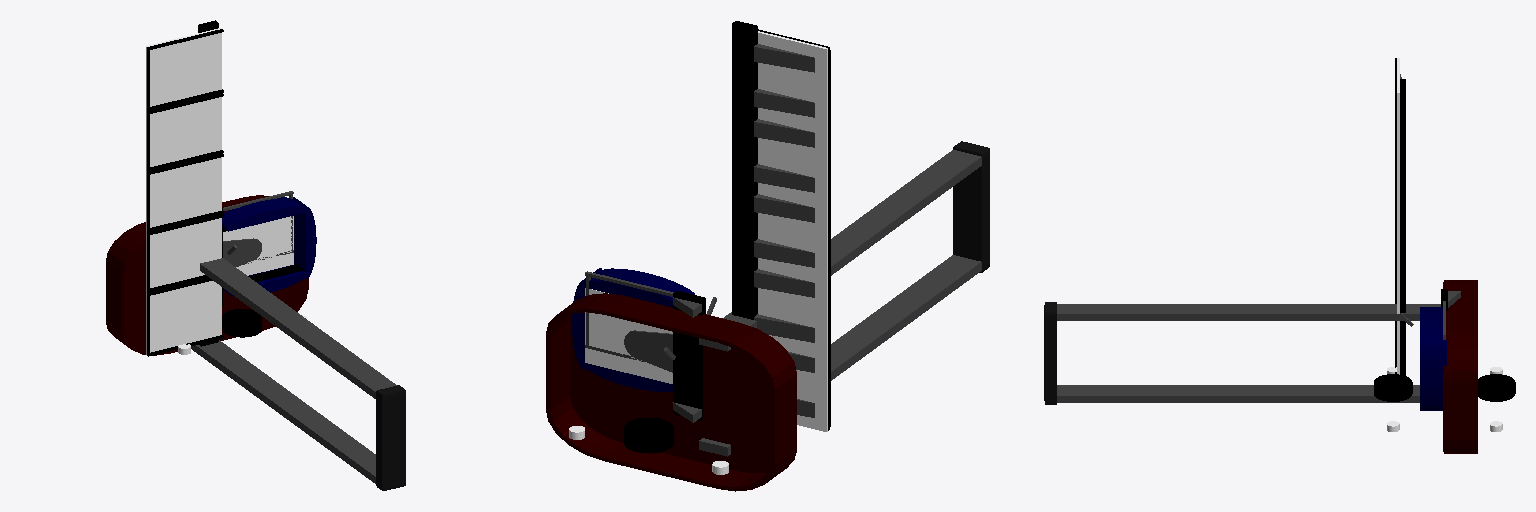
URDF robot description (tote):
<?xml version="1.0"?>
<robot name="tote">

  <link name="base_footprint"/>

  <joint name="base_footprint_joint" type="fixed">
    <parent link="base_footprint"/>
    <child link="base_link"/>
    <origin xyz="0 0 0" rpy="0 0 0"/>
  </joint>

  <link name="base_link">
    <visual>   <geometry> <box size="0.01 0.01 0.01"/> </geometry> </visual>
    <collision><geometry> <box size="0.01 0.01 0.01"/> </geometry> </collision>
    <inertial>
      <mass value="250.0"/> 
      <inertia ixx="1.0" ixy="0.0" ixz="0.0" iyy="1.0" iyz="0.0" izz="1.0"/>
    </inertial>
  </link>

  <joint name="left_wheel_joint" type="continuous">
    <parent link="base_link"/>
    <child link="left_wheel_link"/>
    <origin xyz="0 -0.4 -0.101" rpy="0 0 0"/> <axis xyz="0 1 0"/> </joint>
  <link name="left_wheel_link">
    <visual>
      <geometry> <mesh filename="wheel.dae"/> </geometry>
    </visual>
    <collision>
      <geometry> <mesh filename="wheel.dae"/> </geometry>
    </collision>
  </link>

  <joint name="right_wheel_joint" type="continuous">
    <parent link="base_link"/>
    <child link="right_wheel_link"/>
    <origin xyz="0 0.4 -0.101" rpy="0 0 0"/> <axis xyz="0 1 0"/>
  </joint>
  <link name="right_wheel_link">
    <visual>
      <geometry> <mesh filename="wheel.dae"/> </geometry>
    </visual>
    <collision>
      <geometry> <mesh filename="wheel.dae"/> </geometry>
    </collision>
  </link>

  <joint name="cast_wheel_joint1" type="fixed">
    <parent link="base_link"/>
    <child link="cast_wheel_link1"/>
    <origin xyz="0.5 0.4 -0.2" rpy="0 0 0"/>
  </joint>
  <link name="cast_wheel_link1">
    <visual>
      <geometry> <mesh filename="cast_wheel.dae"/> </geometry>
    </visual>
    <collision>
      <geometry> <mesh filename="cast_wheel.dae"/> </geometry>
    </collision>
  </link>

  <joint name="cast_wheel_joint2" type="fixed">
    <parent link="base_link"/>
    <child link="cast_wheel_link2"/>
    <origin xyz="-0.5 0.4 -0.2" rpy="0 0 0"/>
  </joint>
  <link name="cast_wheel_link2">
    <visual>
      <geometry> <mesh filename="cast_wheel.dae"/> </geometry>
    </visual>
    <collision>
      <geometry> <mesh filename="cast_wheel.dae"/> </geometry>
    </collision>
  </link>

  <joint name="cast_wheel_joint3" type="fixed">
    <parent link="base_link"/>
    <child link="cast_wheel_link3"/>
    <origin xyz="0.5 -0.4 -0.2" rpy="0 0 0"/>
  </joint>
  <link name="cast_wheel_link3">
    <visual>
      <geometry> <mesh filename="cast_wheel.dae"/> </geometry>
    </visual>
    <collision>
      <geometry> <mesh filename="cast_wheel.dae"/> </geometry>
    </collision>
  </link>

  <joint name="cast_wheel_joint4" type="fixed">
    <parent link="base_link"/>
    <child link="cast_wheel_link4"/>
    <origin xyz="-0.5 -0.4 -0.2" rpy="0 0 0"/>
  </joint>
  <link name="cast_wheel_link4">
    <visual>
      <geometry> <mesh filename="cast_wheel.dae"/> </geometry>
    </visual>
    <collision>
      <geometry> <mesh filename="cast_wheel.dae"/> </geometry>
    </collision>
  </link>

  <joint name="mast_joint" type="fixed">
    <parent link="base_link"/>
    <child link="mast_link"/>
    <origin xyz="0 0 0.08" rpy="0 0 0"/>
  </joint>
  <link name="mast_link">

    <visual> <geometry> <mesh filename="mast/mast_base_up.dae"/> </geometry> </visual>
    <visual> <geometry> <mesh filename="mast/mast_base_front.dae"/> </geometry> </visual>
    <visual> <geometry> <mesh filename="mast/mast_base_back.dae"/> </geometry> </visual>
    <visual> <geometry> <mesh filename="mast/mast_base_right.dae"/> </geometry> </visual>
    <visual> <geometry> <mesh filename="mast/mast_base_left.dae"/> </geometry> </visual>

    <visual> <geometry> <mesh filename="mast/mast_beam_up.dae"/> </geometry> </visual>
    <visual> <geometry> <mesh filename="mast/mast_beam_left.dae"/> </geometry> </visual>
    <visual> <geometry> <mesh filename="mast/mast_beam_right.dae"/> </geometry> </visual>    

    <visual> <origin xyz="0 0 0.0" rpy="0 0 0"/> <geometry> <mesh filename="mast/mast_tray_base.dae"/> </geometry> </visual>    
    <visual> <origin xyz="0 0 0.0" rpy="0 0 0"/> <geometry> <mesh filename="mast/mast_tray_back.dae"/> </geometry> </visual>    
    <visual> <origin xyz="0 0 0.0" rpy="0 0 0"/> <geometry> <mesh filename="mast/mast_tray_left.dae"/> </geometry> </visual>    
    <visual> <origin xyz="0 0 0.0" rpy="0 0 0"/> <geometry> <mesh filename="mast/mast_tray_right.dae"/> </geometry> </visual>    
    <visual> <origin xyz="0 0 0.0" rpy="0 0 0"/> <geometry> <mesh filename="mast/mast_tray_support_base.dae"/> </geometry> </visual>    
    <visual> <origin xyz="0 0 0.0" rpy="0 0 0"/> <geometry> <mesh filename="mast/mast_tray_support_left.dae"/> </geometry> </visual>    
    <visual> <origin xyz="0 0 0.0" rpy="0 0 0"/> <geometry> <mesh filename="mast/mast_tray_support_right.dae"/> </geometry> </visual>        

    <visual> <origin xyz="0 0 0.5" rpy="0 0 0"/> <geometry> <mesh filename="mast/mast_tray_base.dae"/> </geometry> </visual>    
    <visual> <origin xyz="0 0 0.5" rpy="0 0 0"/> <geometry> <mesh filename="mast/mast_tray_back.dae"/> </geometry> </visual>    
    <visual> <origin xyz="0 0 0.5" rpy="0 0 0"/> <geometry> <mesh filename="mast/mast_tray_left.dae"/> </geometry> </visual>    
    <visual> <origin xyz="0 0 0.5" rpy="0 0 0"/> <geometry> <mesh filename="mast/mast_tray_right.dae"/> </geometry> </visual>    
    <visual> <origin xyz="0 0 0.5" rpy="0 0 0"/> <geometry> <mesh filename="mast/mast_tray_support_base.dae"/> </geometry> </visual>    
    <visual> <origin xyz="0 0 0.5" rpy="0 0 0"/> <geometry> <mesh filename="mast/mast_tray_support_left.dae"/> </geometry> </visual>    
    <visual> <origin xyz="0 0 0.5" rpy="0 0 0"/> <geometry> <mesh filename="mast/mast_tray_support_right.dae"/> </geometry> </visual>        

    <visual> <origin xyz="0 0 1.0" rpy="0 0 0"/> <geometry> <mesh filename="mast/mast_tray_base.dae"/> </geometry> </visual>    
    <visual> <origin xyz="0 0 1.0" rpy="0 0 0"/> <geometry> <mesh filename="mast/mast_tray_back.dae"/> </geometry> </visual>    
    <visual> <origin xyz="0 0 1.0" rpy="0 0 0"/> <geometry> <mesh filename="mast/mast_tray_left.dae"/> </geometry> </visual>    
    <visual> <origin xyz="0 0 1.0" rpy="0 0 0"/> <geometry> <mesh filename="mast/mast_tray_right.dae"/> </geometry> </visual>    
    <visual> <origin xyz="0 0 1.0" rpy="0 0 0"/> <geometry> <mesh filename="mast/mast_tray_support_base.dae"/> </geometry> </visual>    
    <visual> <origin xyz="0 0 1.0" rpy="0 0 0"/> <geometry> <mesh filename="mast/mast_tray_support_left.dae"/> </geometry> </visual>    
    <visual> <origin xyz="0 0 1.0" rpy="0 0 0"/> <geometry> <mesh filename="mast/mast_tray_support_right.dae"/> </geometry> </visual>        

    <visual> <origin xyz="0 0 1.5" rpy="0 0 0"/> <geometry> <mesh filename="mast/mast_tray_base.dae"/> </geometry> </visual>    
    <visual> <origin xyz="0 0 1.5" rpy="0 0 0"/> <geometry> <mesh filename="mast/mast_tray_back.dae"/> </geometry> </visual>    
    <visual> <origin xyz="0 0 1.5" rpy="0 0 0"/> <geometry> <mesh filename="mast/mast_tray_left.dae"/> </geometry> </visual>    
    <visual> <origin xyz="0 0 1.5" rpy="0 0 0"/> <geometry> <mesh filename="mast/mast_tray_right.dae"/> </geometry> </visual>    
    <visual> <origin xyz="0 0 1.5" rpy="0 0 0"/> <geometry> <mesh filename="mast/mast_tray_support_base.dae"/> </geometry> </visual>    
    <visual> <origin xyz="0 0 1.5" rpy="0 0 0"/> <geometry> <mesh filename="mast/mast_tray_support_left.dae"/> </geometry> </visual>    
    <visual> <origin xyz="0 0 1.5" rpy="0 0 0"/> <geometry> <mesh filename="mast/mast_tray_support_right.dae"/> </geometry> </visual>        

    <visual> <origin xyz="0 0 2.0" rpy="0 0 0"/> <geometry> <mesh filename="mast/mast_tray_base.dae"/> </geometry> </visual>    
    <visual> <origin xyz="0 0 2.0" rpy="0 0 0"/> <geometry> <mesh filename="mast/mast_tray_back.dae"/> </geometry> </visual>    
    <visual> <origin xyz="0 0 2.0" rpy="0 0 0"/> <geometry> <mesh filename="mast/mast_tray_left.dae"/> </geometry> </visual>    
    <visual> <origin xyz="0 0 2.0" rpy="0 0 0"/> <geometry> <mesh filename="mast/mast_tray_right.dae"/> </geometry> </visual>    
    <visual> <origin xyz="0 0 2.0" rpy="0 0 0"/> <geometry> <mesh filename="mast/mast_tray_support_base.dae"/> </geometry> </visual>    
    <visual> <origin xyz="0 0 2.0" rpy="0 0 0"/> <geometry> <mesh filename="mast/mast_tray_support_left.dae"/> </geometry> </visual>    
    <visual> <origin xyz="0 0 2.0" rpy="0 0 0"/> <geometry> <mesh filename="mast/mast_tray_support_right.dae"/> </geometry> </visual>

    <collision> <geometry> <mesh filename="mast/mast_base_up.dae"/> </geometry> </collision>
    <collision> <geometry> <mesh filename="mast/mast_base_front.dae"/> </geometry> </collision>
    <collision> <geometry> <mesh filename="mast/mast_base_back.dae"/> </geometry> </collision>
    <collision> <geometry> <mesh filename="mast/mast_base_right.dae"/> </geometry> </collision>
    <collision> <geometry> <mesh filename="mast/mast_base_left.dae"/> </geometry> </collision>
    
    <collision> <geometry> <mesh filename="mast/mast_beam_up.dae"/> </geometry> </collision>
    <collision> <geometry> <mesh filename="mast/mast_beam_left.dae"/> </geometry> </collision>
    <collision> <geometry> <mesh filename="mast/mast_beam_right.dae"/> </geometry> </collision>

    <collision> <origin xyz="0 0 0.0" rpy="0 0 0"/> <geometry> <mesh filename="mast/mast_tray_base.dae"/> </geometry> </collision>
    <collision> <origin xyz="0 0 0.0" rpy="0 0 0"/> <geometry> <mesh filename="mast/mast_tray_back.dae"/> </geometry> </collision>
    <collision> <origin xyz="0 0 0.0" rpy="0 0 0"/> <geometry> <mesh filename="mast/mast_tray_left.dae"/> </geometry> </collision>
    <collision> <origin xyz="0 0 0.0" rpy="0 0 0"/> <geometry> <mesh filename="mast/mast_tray_right.dae"/> </geometry> </collision>
    <collision> <origin xyz="0 0 0.0" rpy="0 0 0"/> <geometry> <mesh filename="mast/mast_tray_support_base.dae"/> </geometry> </collision>
    <collision> <origin xyz="0 0 0.0" rpy="0 0 0"/> <geometry> <mesh filename="mast/mast_tray_support_left.dae"/> </geometry> </collision>
    <collision> <origin xyz="0 0 0.0" rpy="0 0 0"/> <geometry> <mesh filename="mast/mast_tray_support_right.dae"/> </geometry> </collision>

    <collision> <origin xyz="0 0 0.5" rpy="0 0 0"/> <geometry> <mesh filename="mast/mast_tray_base.dae"/> </geometry> </collision>
    <collision> <origin xyz="0 0 0.5" rpy="0 0 0"/> <geometry> <mesh filename="mast/mast_tray_back.dae"/> </geometry> </collision>
    <collision> <origin xyz="0 0 0.5" rpy="0 0 0"/> <geometry> <mesh filename="mast/mast_tray_left.dae"/> </geometry> </collision>
    <collision> <origin xyz="0 0 0.5" rpy="0 0 0"/> <geometry> <mesh filename="mast/mast_tray_right.dae"/> </geometry> </collision>
    <collision> <origin xyz="0 0 0.5" rpy="0 0 0"/> <geometry> <mesh filename="mast/mast_tray_support_base.dae"/> </geometry> </collision>
    <collision> <origin xyz="0 0 0.5" rpy="0 0 0"/> <geometry> <mesh filename="mast/mast_tray_support_left.dae"/> </geometry> </collision>
    <collision> <origin xyz="0 0 0.5" rpy="0 0 0"/> <geometry> <mesh filename="mast/mast_tray_support_right.dae"/> </geometry> </collision>

    <collision> <origin xyz="0 0 1.0" rpy="0 0 0"/> <geometry> <mesh filename="mast/mast_tray_base.dae"/> </geometry> </collision>
    <collision> <origin xyz="0 0 1.0" rpy="0 0 0"/> <geometry> <mesh filename="mast/mast_tray_back.dae"/> </geometry> </collision>
    <collision> <origin xyz="0 0 1.0" rpy="0 0 0"/> <geometry> <mesh filename="mast/mast_tray_left.dae"/> </geometry> </collision>
    <collision> <origin xyz="0 0 1.0" rpy="0 0 0"/> <geometry> <mesh filename="mast/mast_tray_right.dae"/> </geometry> </collision>
    <collision> <origin xyz="0 0 1.0" rpy="0 0 0"/> <geometry> <mesh filename="mast/mast_tray_support_base.dae"/> </geometry> </collision>
    <collision> <origin xyz="0 0 1.0" rpy="0 0 0"/> <geometry> <mesh filename="mast/mast_tray_support_left.dae"/> </geometry> </collision>
    <collision> <origin xyz="0 0 1.0" rpy="0 0 0"/> <geometry> <mesh filename="mast/mast_tray_support_right.dae"/> </geometry> </collision>

    <collision> <origin xyz="0 0 1.5" rpy="0 0 0"/> <geometry> <mesh filename="mast/mast_tray_base.dae"/> </geometry> </collision>
    <collision> <origin xyz="0 0 1.5" rpy="0 0 0"/> <geometry> <mesh filename="mast/mast_tray_back.dae"/> </geometry> </collision>
    <collision> <origin xyz="0 0 1.5" rpy="0 0 0"/> <geometry> <mesh filename="mast/mast_tray_left.dae"/> </geometry> </collision>
    <collision> <origin xyz="0 0 1.5" rpy="0 0 0"/> <geometry> <mesh filename="mast/mast_tray_right.dae"/> </geometry> </collision>
    <collision> <origin xyz="0 0 1.5" rpy="0 0 0"/> <geometry> <mesh filename="mast/mast_tray_support_base.dae"/> </geometry> </collision>
    <collision> <origin xyz="0 0 1.5" rpy="0 0 0"/> <geometry> <mesh filename="mast/mast_tray_support_left.dae"/> </geometry> </collision>
    <collision> <origin xyz="0 0 1.5" rpy="0 0 0"/> <geometry> <mesh filename="mast/mast_tray_support_right.dae"/> </geometry> </collision>

    <collision> <origin xyz="0 0 2.0" rpy="0 0 0"/> <geometry> <mesh filename="mast/mast_tray_base.dae"/> </geometry> </collision>
    <collision> <origin xyz="0 0 2.0" rpy="0 0 0"/> <geometry> <mesh filename="mast/mast_tray_back.dae"/> </geometry> </collision>
    <collision> <origin xyz="0 0 2.0" rpy="0 0 0"/> <geometry> <mesh filename="mast/mast_tray_left.dae"/> </geometry> </collision>
    <collision> <origin xyz="0 0 2.0" rpy="0 0 0"/> <geometry> <mesh filename="mast/mast_tray_right.dae"/> </geometry> </collision>
    <collision> <origin xyz="0 0 2.0" rpy="0 0 0"/> <geometry> <mesh filename="mast/mast_tray_support_base.dae"/> </geometry> </collision>
    <collision> <origin xyz="0 0 2.0" rpy="0 0 0"/> <geometry> <mesh filename="mast/mast_tray_support_left.dae"/> </geometry> </collision>
    <collision> <origin xyz="0 0 2.0" rpy="0 0 0"/> <geometry> <mesh filename="mast/mast_tray_support_right.dae"/> </geometry> </collision>

    <inertial>
      <mass value="1.0"/> 
      <origin xyz="0 0 0.3" rpy="0 0 0"/>
      <inertia ixx="0.2" ixy="0.0" ixz="0.0" iyy="0.2" iyz="0.0" izz="0.05"/>
    </inertial>
  </link>

  <joint name="lift_z_joint" type="prismatic">
    <parent link="mast_link"/>
    <child link="lift_shuttle_link"/>
    <origin xyz="-0.05 0 0.2" rpy="0 0 0"/>
    <axis xyz="0 0 1"/> <limit lower="0.0" upper="2.5" effort="500" velocity="0.6"/>
  </joint>

  <link name="lift_shuttle_link">

    <visual> <geometry> <mesh filename="lift_base/lift_base_back.dae"/> </geometry> </visual>
    <visual> <geometry> <mesh filename="lift_base/lift_base_middle.dae"/> </geometry> </visual>
    <visual> <geometry> <mesh filename="lift_base/lift_base_front.dae"/> </geometry> </visual>
    <visual> <geometry> <mesh filename="lift_base/lift_base_support_left.dae"/> </geometry> </visual>
    <visual> <geometry> <mesh filename="lift_base/lift_base_support_right.dae"/> </geometry> </visual>
    
    <collision> <geometry> <mesh filename="lift_base/lift_base_back.dae"/> </geometry> </collision>
    <collision> <geometry> <mesh filename="lift_base/lift_base_middle.dae"/> </geometry> </collision>
    <collision> <geometry> <mesh filename="lift_base/lift_base_front.dae"/> </geometry> </collision>
    <collision> <geometry> <mesh filename="lift_base/lift_base_support_left.dae"/> </geometry> </collision>
    <collision> <geometry> <mesh filename="lift_base/lift_base_support_right.dae"/> </geometry> </collision>
  
    <inertial>
      <mass value="1.0"/> 
      <origin xyz="0 0 0" rpy="0 0 0"/>
      <inertia ixx="0.2" ixy="0.0" ixz="0.0" iyy="0.2" iyz="0.0" izz="0.05"/>
    </inertial>
  </link>

  <joint name="lift_rotation_joint" type="revolute">
    <parent link="lift_shuttle_link"/>
    <child link="shuttle_rotator_link"/>
    <origin xyz="0.4 0 0.04" rpy="0 0 0"/> <axis xyz="0 0 1"/> <limit lower="-1.5708" upper="1.5708" effort="100" velocity="1.0"/> </joint>

  <link name="shuttle_rotator_link">
    
    <visual> <geometry> <mesh filename="lift_rotation/lift_rotation_base.dae"/> </geometry> </visual>
    <visual> <geometry> <mesh filename="lift_rotation/lift_rotation_left.dae"/> </geometry> </visual>
    <visual> <geometry> <mesh filename="lift_rotation/lift_rotation_right.dae"/> </geometry> </visual>
    <visual> <geometry> <mesh filename="lift_rotation/lift_rotation_front.dae"/> </geometry> </visual>
    <visual> <geometry> <mesh filename="lift_rotation/lift_rotation_leftrail_down.dae"/> </geometry> </visual>
    <visual> <geometry> <mesh filename="lift_rotation/lift_rotation_leftrail_up.dae"/> </geometry> </visual>
    <visual> <geometry> <mesh filename="lift_rotation/lift_rotation_rightrail_down.dae"/> </geometry> </visual>    
    <visual> <geometry> <mesh filename="lift_rotation/lift_rotation_rightrail_up.dae"/> </geometry> </visual>    

    <collision><geometry> <mesh filename="lift_rotation/lift_rotation_base.dae"/> </geometry> </collision>
    <collision><geometry> <mesh filename="lift_rotation/lift_rotation_left.dae"/> </geometry> </collision>
    <collision><geometry> <mesh filename="lift_rotation/lift_rotation_right.dae"/> </geometry> </collision>
    <collision><geometry> <mesh filename="lift_rotation/lift_rotation_front.dae"/> </geometry> </collision>
    <collision><geometry> <mesh filename="lift_rotation/lift_rotation_leftrail_down.dae"/> </geometry> </collision>
    <collision><geometry> <mesh filename="lift_rotation/lift_rotation_leftrail_up.dae"/> </geometry> </collision>
    <collision><geometry> <mesh filename="lift_rotation/lift_rotation_rightrail_down.dae"/> </geometry> </collision>
    <collision><geometry> <mesh filename="lift_rotation/lift_rotation_rightrail_up.dae"/> </geometry> </collision>

    <inertial>
      <mass value="1.0"/> 
      <origin xyz="0 0 0" rpy="0 0 0"/>
      <inertia ixx="0.2" ixy="0.0" ixz="0.0" iyy="0.2" iyz="0.0" izz="0.05"/>
    </inertial>

  </link>

  <joint name="fork_extension_joint" type="prismatic">
    <parent link="shuttle_rotator_link"/>
    <child link="fork_arm_link"/>
    <origin xyz="0.3 0 0.1" rpy="0 0 0"/> <axis xyz="-1 0 0"/> <limit lower="0.0" upper="1.2" effort="150" velocity="0.5"/> </joint>

  <link name="fork_arm_link">
    
    <visual><geometry> <mesh filename="lift_arm/lift_arm_front.dae"/> </geometry> </visual>
    <visual><geometry> <mesh filename="lift_arm/lift_arm_left.dae"/> </geometry> </visual>
    <visual><geometry> <mesh filename="lift_arm/lift_arm_right.dae"/> </geometry> </visual>    

    <collision><geometry> <mesh filename="lift_arm/lift_arm_front.dae"/> </geometry> </collision>
    <collision><geometry> <mesh filename="lift_arm/lift_arm_left.dae"/> </geometry> </collision>
    <collision><geometry> <mesh filename="lift_arm/lift_arm_right.dae"/> </geometry> </collision>
    
    <inertial>
      <mass value="1.0"/> 
      <origin xyz="0 0 0" rpy="0 0 0"/>
      <inertia ixx="0.2" ixy="0.0" ixz="0.0" iyy="0.2" iyz="0.0" izz="0.05"/>
    </inertial>
  </link>

  <joint name="left_claw_joint" type="revolute">
    <parent link="fork_arm_link"/>
    <child link="left_claw_link"/>
    <origin xyz="-0.68 -0.25 0" rpy="0.7854 0 0"/> <axis xyz="1 0 0"/> <limit lower="-0.8" upper="0.8" effort="50" velocity="0.1"/> </joint>

  <link name="left_claw_link">
    <visual>
      <geometry> <mesh filename="lift_claw_l.dae"/> </geometry>
    </visual>
    <collision><geometry> <mesh filename="lift_claw_l.dae"/> </geometry> </collision>
  </link>

  <joint name="right_claw_joint" type="revolute">
    <parent link="fork_arm_link"/>
    <child link="right_claw_link"/>
    <origin xyz="-0.68 0.25 0" rpy="-0.7854 0 0"/> <axis xyz="-1 0 0"/> <limit lower="-0.8" upper="0.8" effort="50" velocity="0.1"/> </joint>

  <link name="right_claw_link">
    <visual>
      <geometry> <mesh filename="lift_claw_r.dae"/> </geometry>
    </visual>
    <collision><geometry> <mesh filename="lift_claw_r.dae"/> </geometry> </collision>
  </link>
 
</robot>

--- Render facts (derived) ---
Views: 3 orthographic renders of the robot side by side, from view 1: azimuth 30°, elevation 25°; view 2: azimuth 150°, elevation 25°; view 3: azimuth 270°, elevation 25°.
Robot: tote — 14 links, 13 joints (3 revolute, 2 continuous, 2 prismatic, 6 fixed); root link base_footprint; default pose: every joint at zero.
Visible links, largest first — view 1: mast_link, shuttle_rotator_link, left_wheel_link, lift_shuttle_link; view 2: mast_link, shuttle_rotator_link, lift_shuttle_link, right_wheel_link, fork_arm_link; view 3: mast_link, shuttle_rotator_link, left_wheel_link, right_wheel_link.
Link boxes in pixels (x1,y1,x2,y2): mast_link: [106, 20, 405, 490]; shuttle_rotator_link: [222, 197, 316, 295]; left_wheel_link: [222, 309, 261, 337]; lift_shuttle_link: [222, 208, 261, 305]; mast_link: [546, 21, 989, 491]; shuttle_rotator_link: [572, 268, 694, 391]; lift_shuttle_link: [624, 291, 705, 422]; right_wheel_link: [624, 418, 673, 453]; fork_arm_link: [585, 271, 673, 361]; mast_link: [1044, 58, 1477, 453]; shuttle_rotator_link: [1420, 307, 1446, 410]; left_wheel_link: [1374, 374, 1412, 401]; right_wheel_link: [1478, 374, 1515, 401].
Size in the robot's own frame: 1.61 by 3.66 by 2.82 metres.
Meshes: 35 distinct files referenced, 67 mesh visuals loaded (35 Collada DAE).
